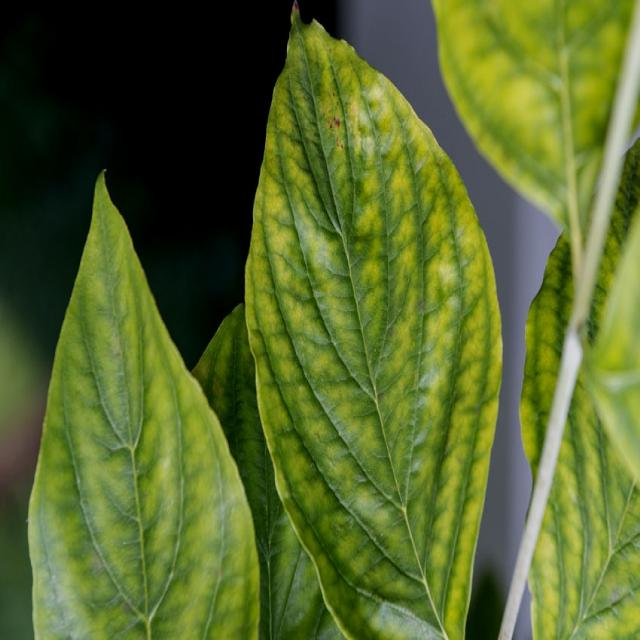Chlorosis: (31, 47, 640, 640)
